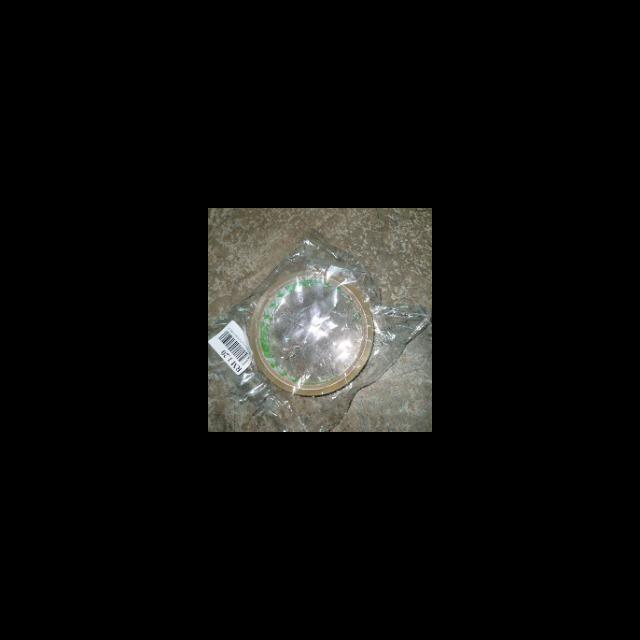plastic: (208, 234, 421, 431)
